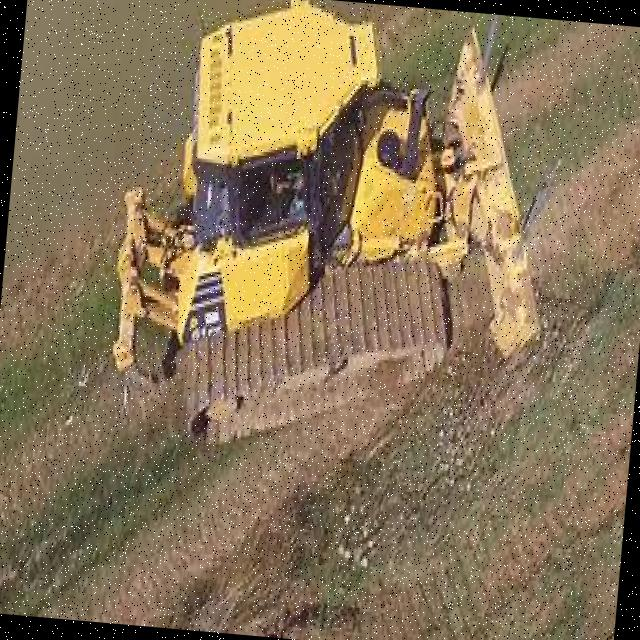Bulldozer: (93, 0, 617, 493)
